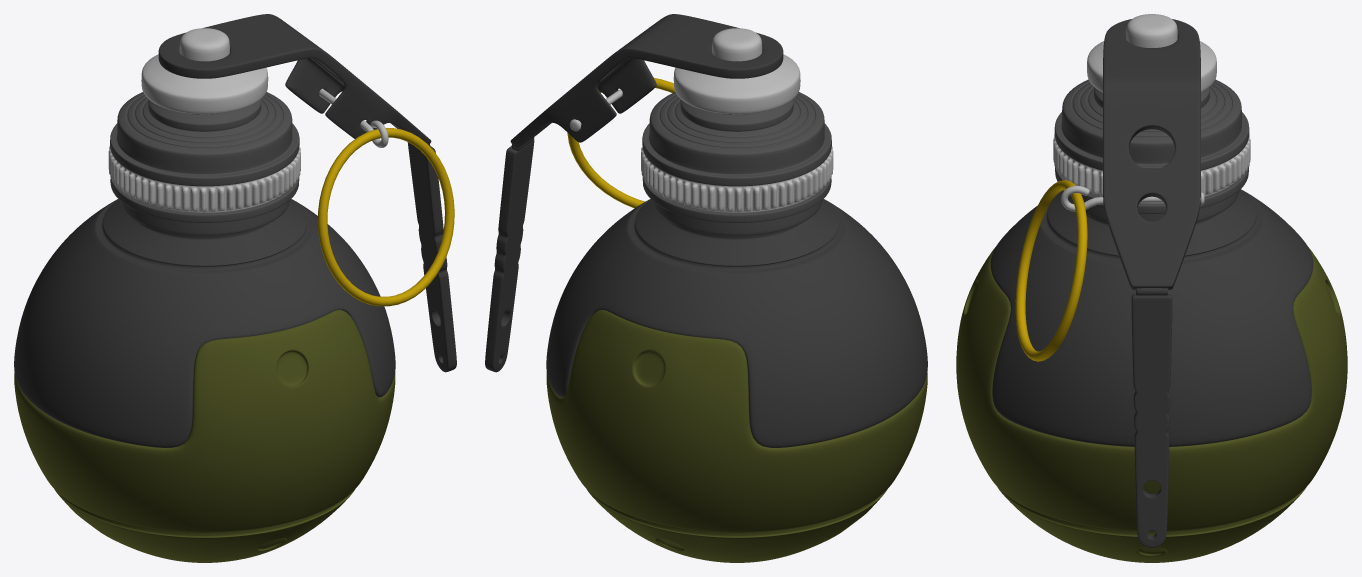
Rendered from Grenade.fbx.
3 renders of one model, left to right at view 1: azimuth 30°, elevation 25°; view 2: azimuth 150°, elevation 25°; view 3: azimuth 270°, elevation 25°, orthographic. The views are drawn at different scales.
Parts seen in each view (by area): view 1: Grenade001; view 2: Grenade001; view 3: Grenade001.
Boxes of the visible parts, bbox=[...] form: Grenade001: bbox=[14, 14, 456, 562]; Grenade001: bbox=[485, 14, 927, 562]; Grenade001: bbox=[956, 14, 1347, 562].
Size of the model in its own units: 5.99 by 7 by 4.8.
